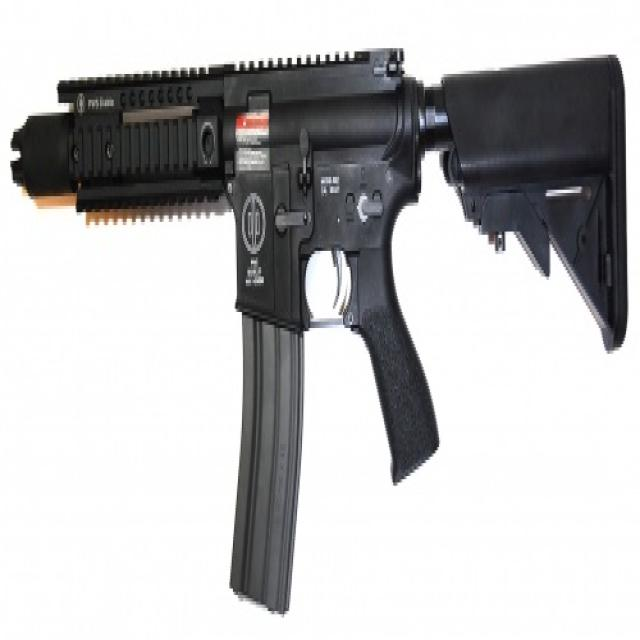rifle: (7, 44, 632, 628)
